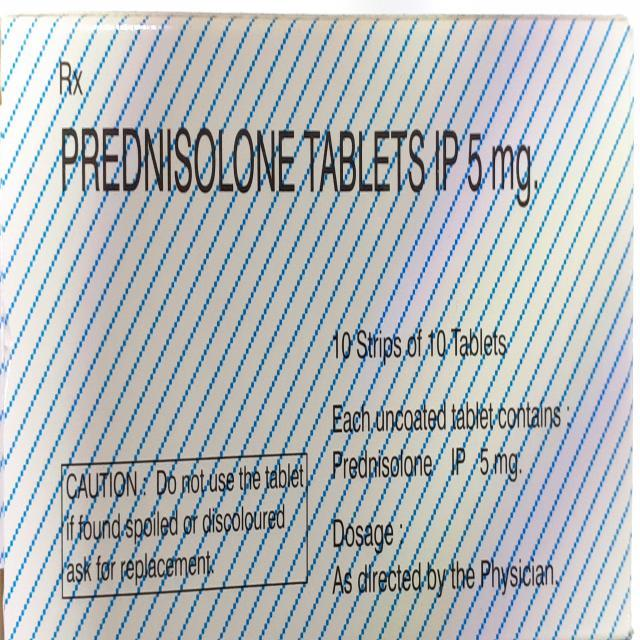drug-name: (56, 120, 299, 204)
